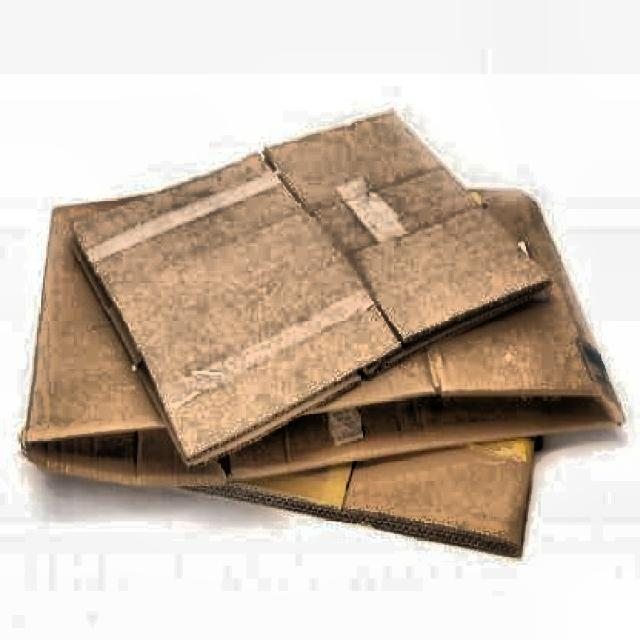Cardbox: (17, 98, 628, 576)
